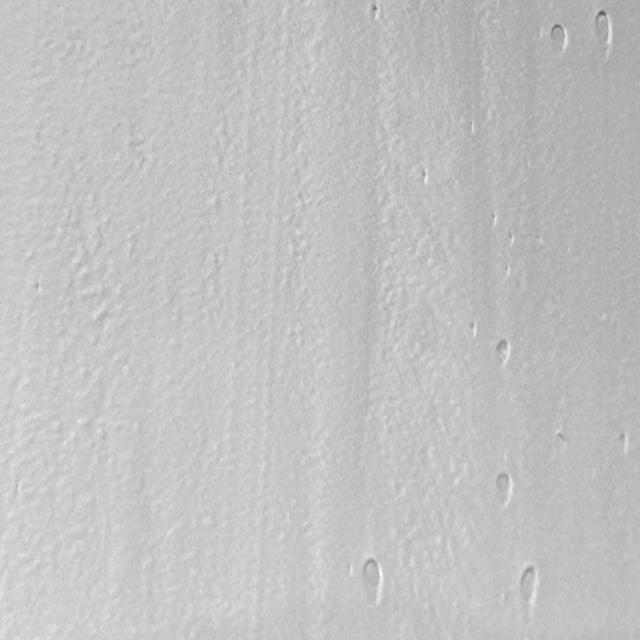pin holes: (356, 553, 387, 606), (516, 564, 545, 610), (592, 11, 617, 54), (547, 22, 571, 55), (490, 470, 514, 503), (491, 337, 512, 368), (615, 428, 633, 456), (366, 1, 384, 23), (417, 166, 434, 188), (555, 430, 570, 450), (467, 320, 480, 340), (488, 210, 500, 230), (506, 232, 517, 248)
